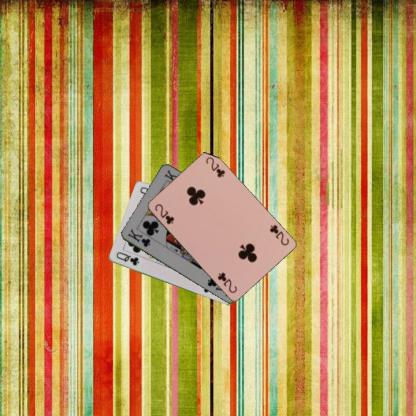2c: (266, 222, 290, 247), (152, 201, 175, 225)
Kc: (125, 226, 151, 248)
Qc: (114, 250, 140, 267)
